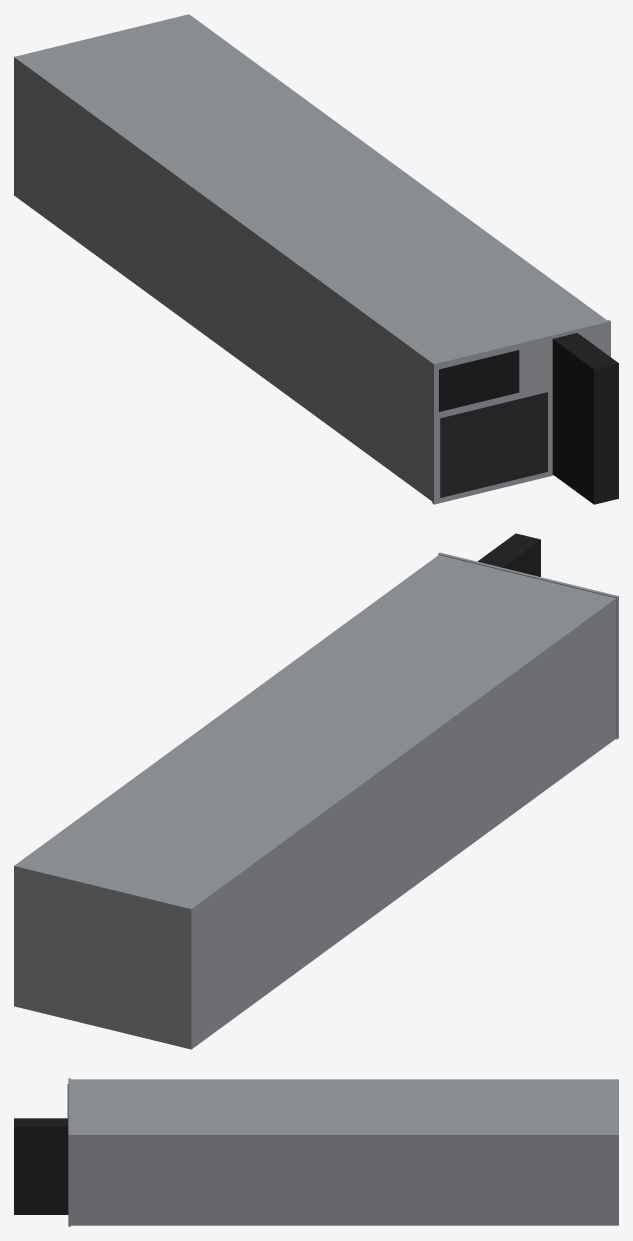
Rendered from PA-3200-PSU-650W-DC.far.glb.
The picture shows the model from 3 angles, top to bottom: view 1: azimuth 30°, elevation 25°; view 2: azimuth 150°, elevation 25°; view 3: azimuth 270°, elevation 25°; orthographic projection. The views are drawn at different scales.
Visible parts, largest first — view 1: PSU_far; view 2: PSU_far; view 3: PSU_far.
Part boxes in pixels (left/top/right/bottom): PSU_far: left=14, top=14, right=618, bottom=504; PSU_far: left=14, top=533, right=618, bottom=1049; PSU_far: left=14, top=1078, right=618, bottom=1226.
Size of the model in its own units: 0.0534 by 0.0405 by 0.2421.
Materials: 2 (1 with a texture image).
